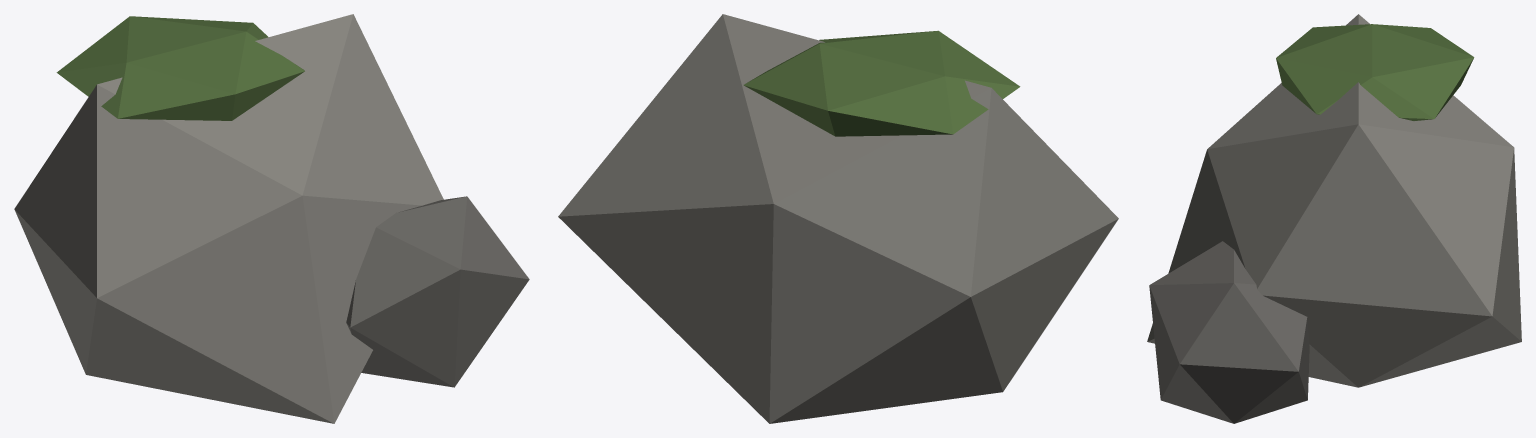
File: nat-pedregulho.gltf
3 views of the same model, side by side, from view 1: azimuth 30°, elevation 25°; view 2: azimuth 150°, elevation 25°; view 3: azimuth 270°, elevation 25° (orthographic). The views are drawn at different scales.
Visible parts, largest first — view 1: nat-pedregulho; view 2: nat-pedregulho; view 3: nat-pedregulho.
Part boxes in pixels (x1,y1,x2,y2): nat-pedregulho: (14, 14, 529, 423); nat-pedregulho: (558, 14, 1118, 423); nat-pedregulho: (1147, 14, 1521, 423).
Size of the model in its own units: 1.63 by 1.11 by 1.36.
